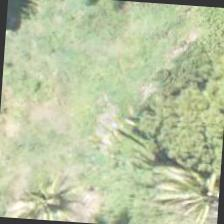Kelapa_Sawit: (9, 150, 104, 224)
